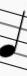note: (1, 2, 23, 68)
